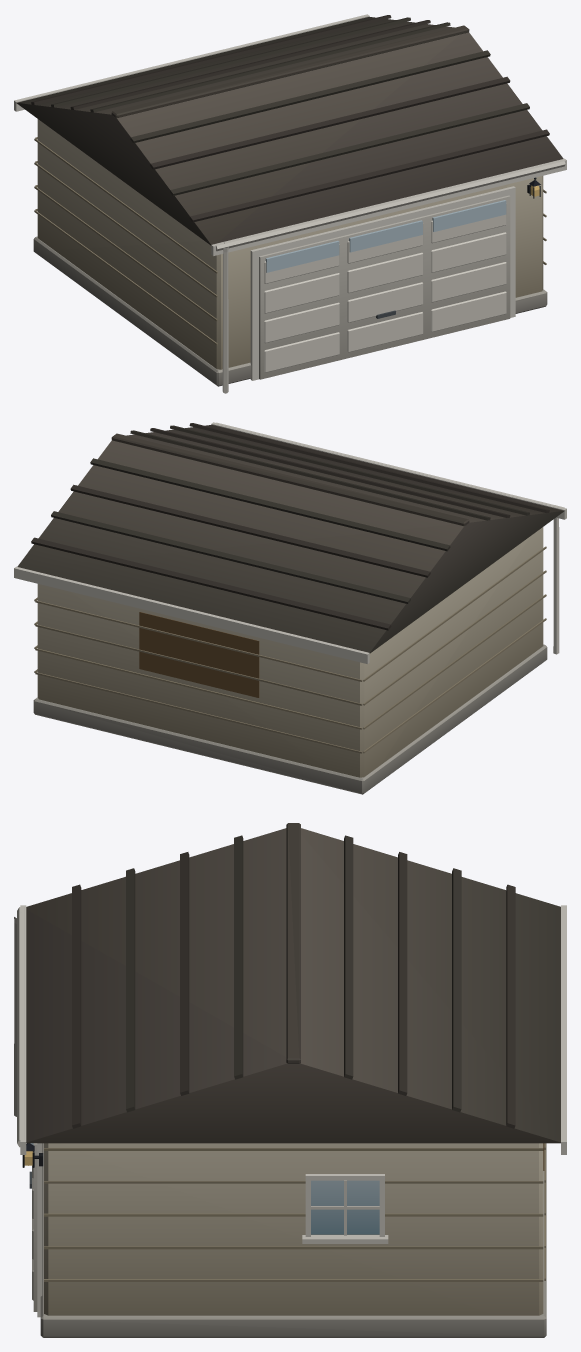
File: garage.glb
3 renders of one model, top to bottom at view 1: azimuth 30°, elevation 25°; view 2: azimuth 150°, elevation 25°; view 3: azimuth 270°, elevation 25°, orthographic. The views are drawn at different scales.
Parts seen in each view (by area): view 1: garage; view 2: garage; view 3: garage.
Part boxes in pixels (left/top/right/bottom): garage: left=14, top=14, right=566, bottom=393; garage: left=14, top=422, right=566, bottom=794; garage: left=14, top=823, right=566, bottom=1337.
Size of the model in its own units: 6.56 by 3.7 by 6.43.
